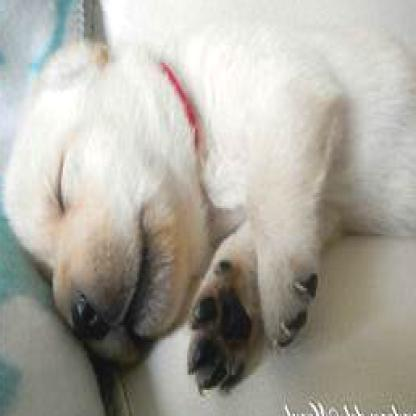dog: (1, 0, 415, 403)
